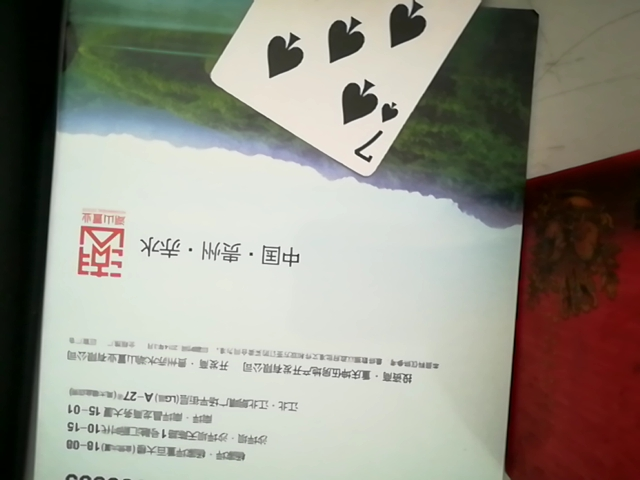ht 7: (201, 1, 494, 185)
